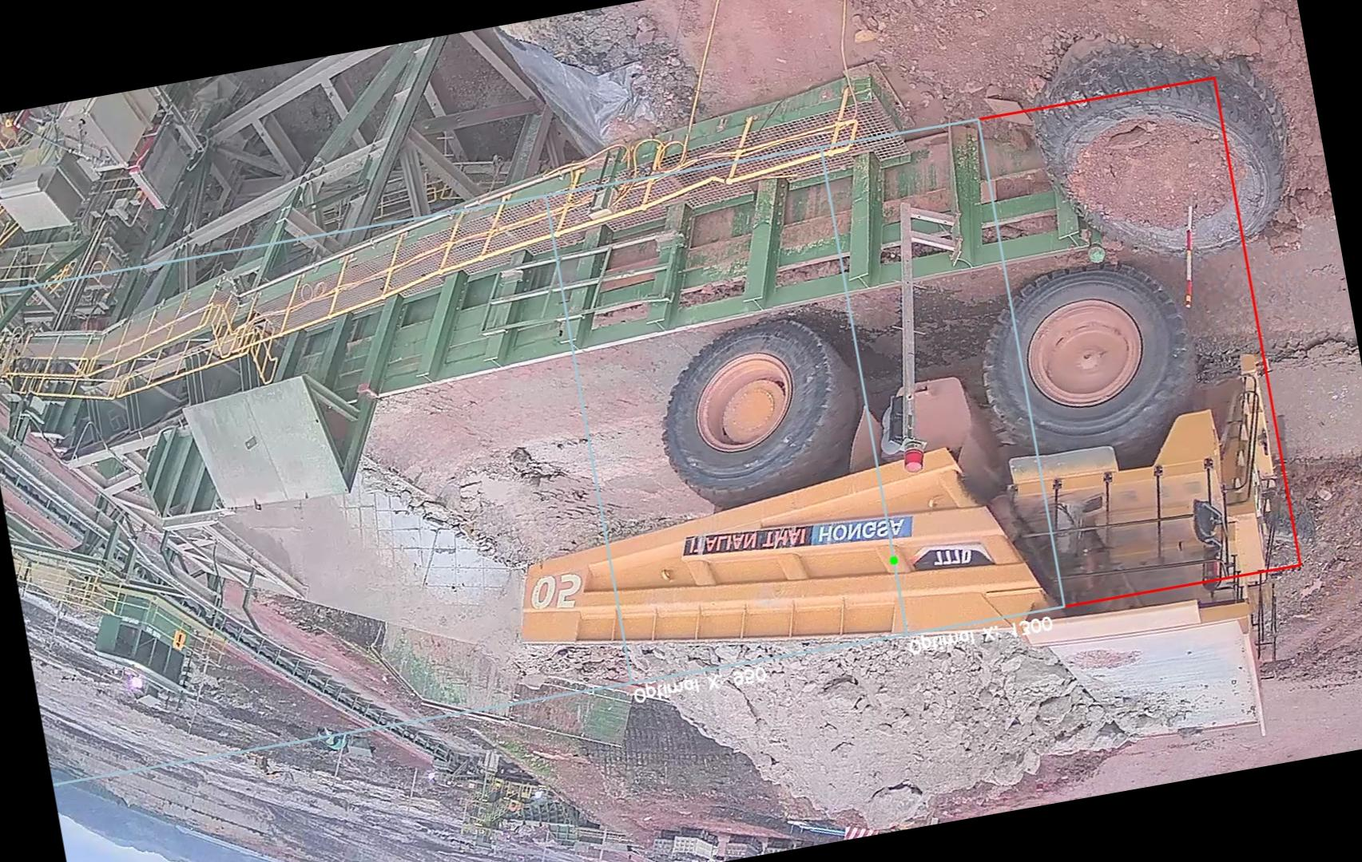company: (677, 491, 927, 581)
full_load: (655, 601, 1066, 862)
mining_truck: (463, 238, 1346, 862)
tail_number: (510, 556, 598, 627)
truck_size: (899, 533, 995, 581)
